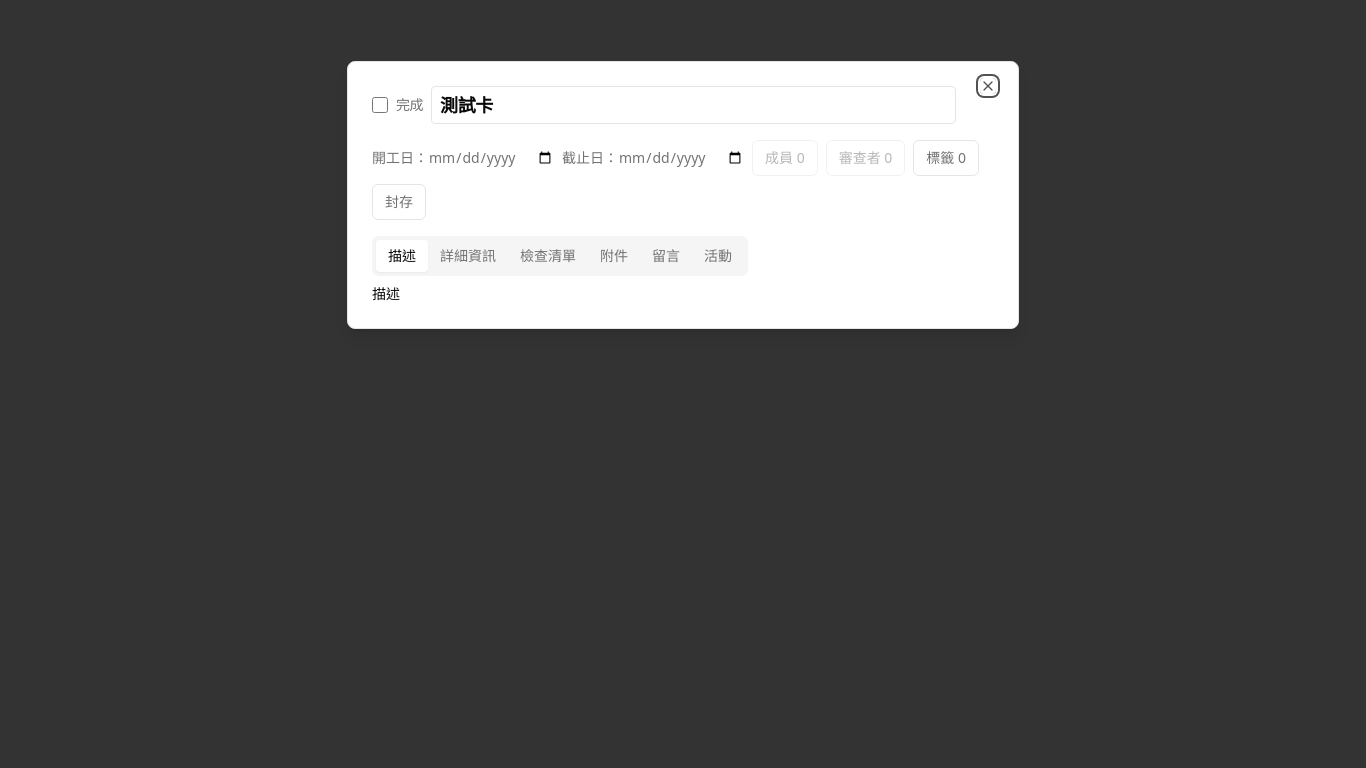
Scenario: 留言分頁 › 載入更多以 cursor 打第二趟，留言接在後面
Check: the field showing "測試卡" is shown, box x1=431 y1=86 x2=956 y2=124
Press the mouse on the tab "留言" at (666, 256), box x1=640 y1=240 x2=692 y2=272
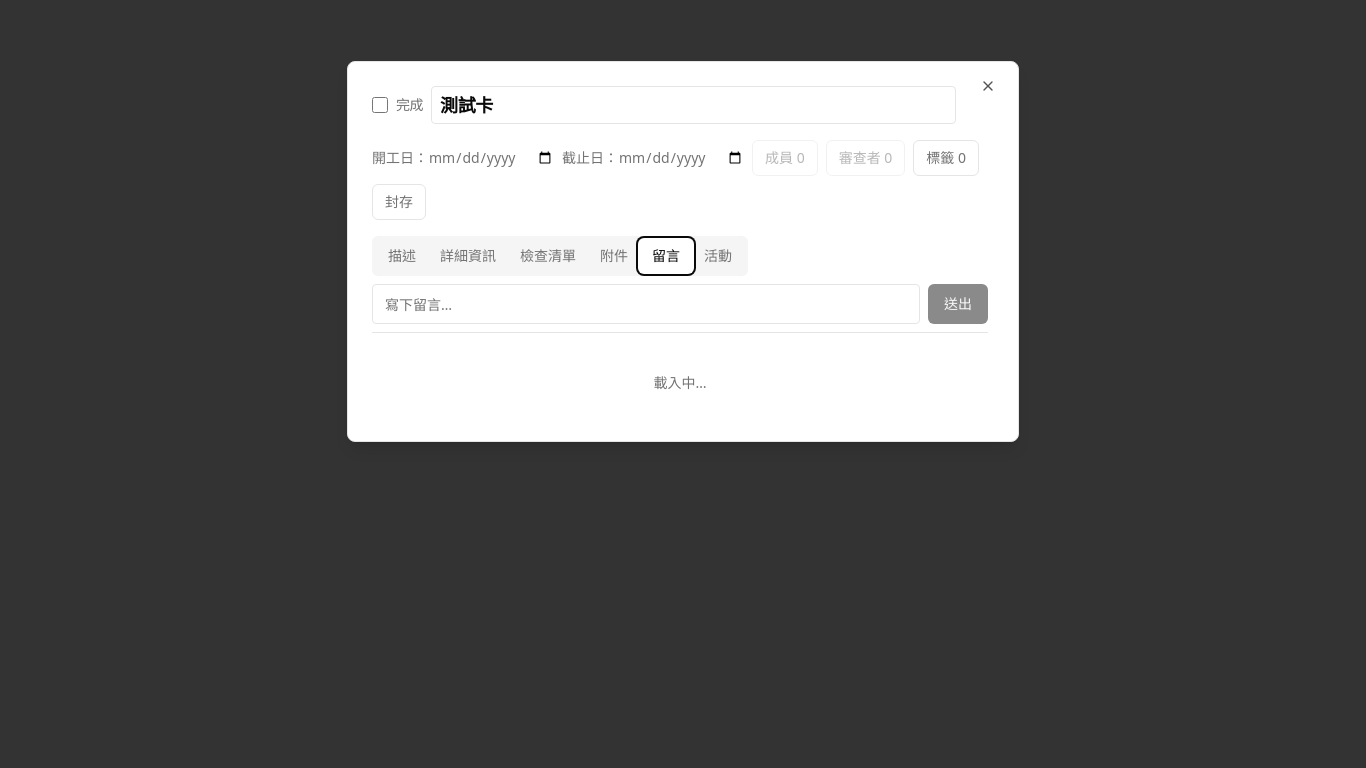
Click the tab "留言" at (666, 256), box x1=640 y1=240 x2=692 y2=272
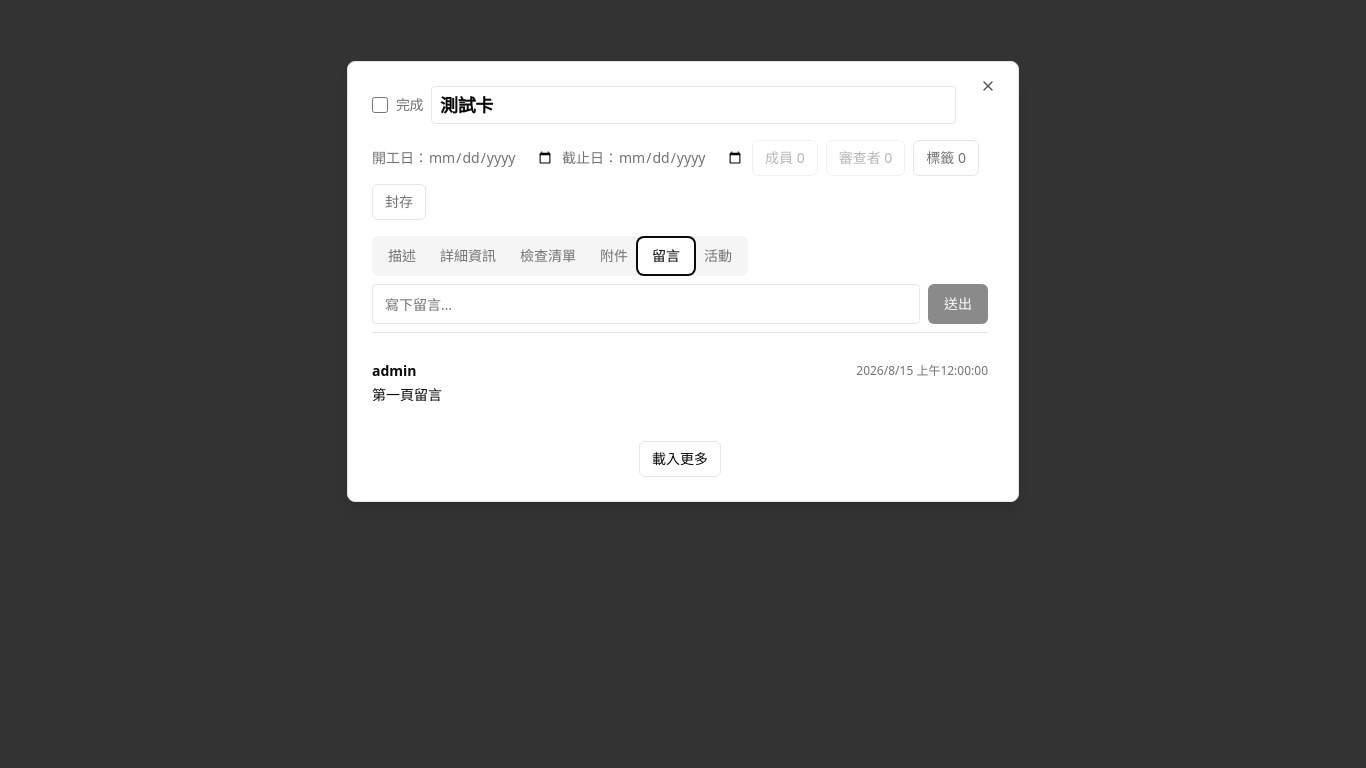
Check: the text "第一頁留言" is shown, box x1=372 y1=385 x2=442 y2=404
Click the button "載入更多" at (680, 459), box x1=639 y1=441 x2=721 y2=477
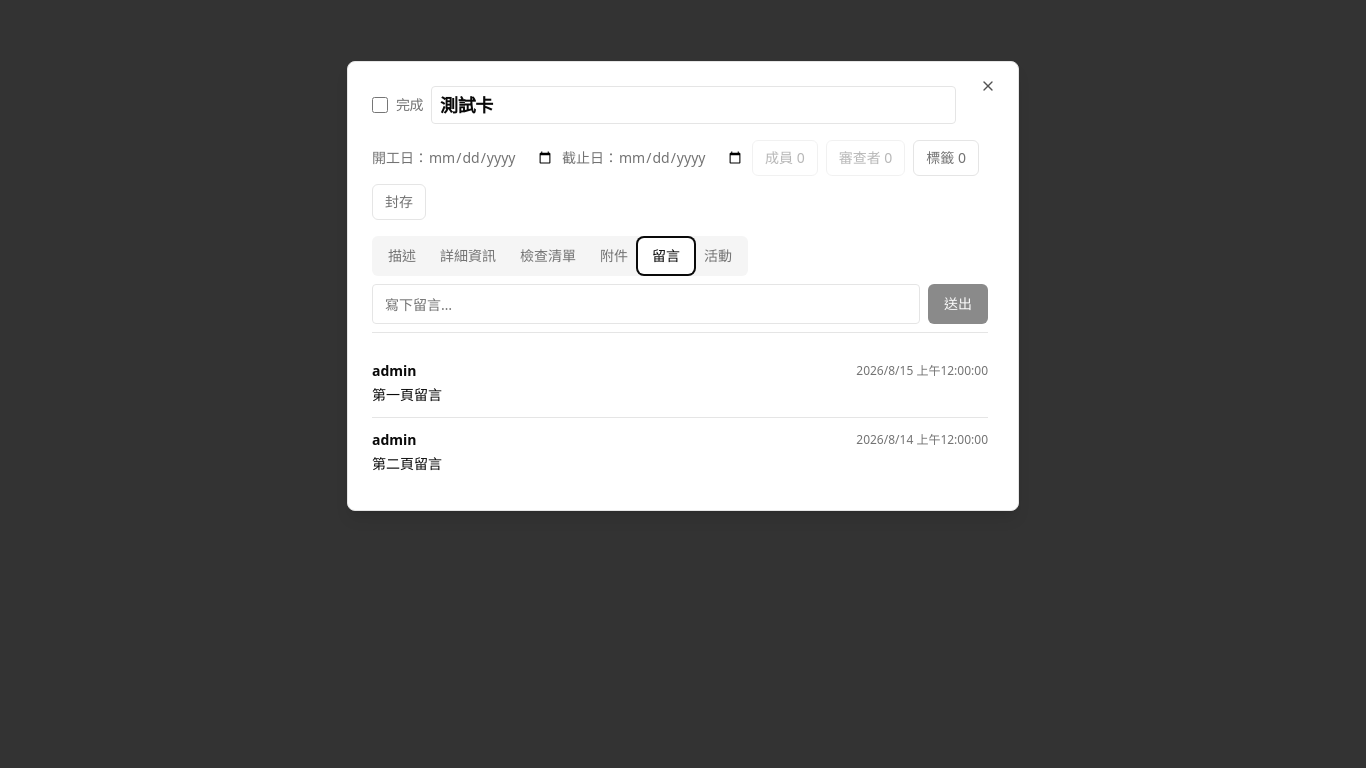
Check: the text "第二頁留言" is shown, box x1=372 y1=454 x2=442 y2=473
Check: the button "載入更多" is gone
